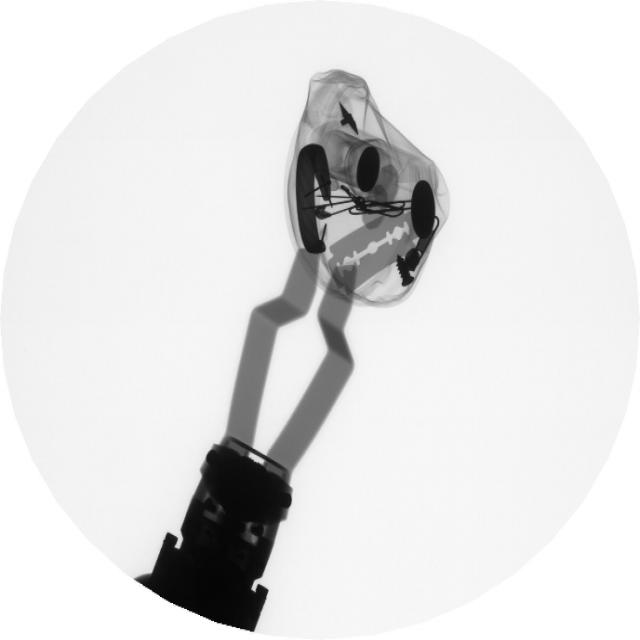BLADE: (325, 201, 422, 300)
SCREW: (379, 257, 423, 309)
